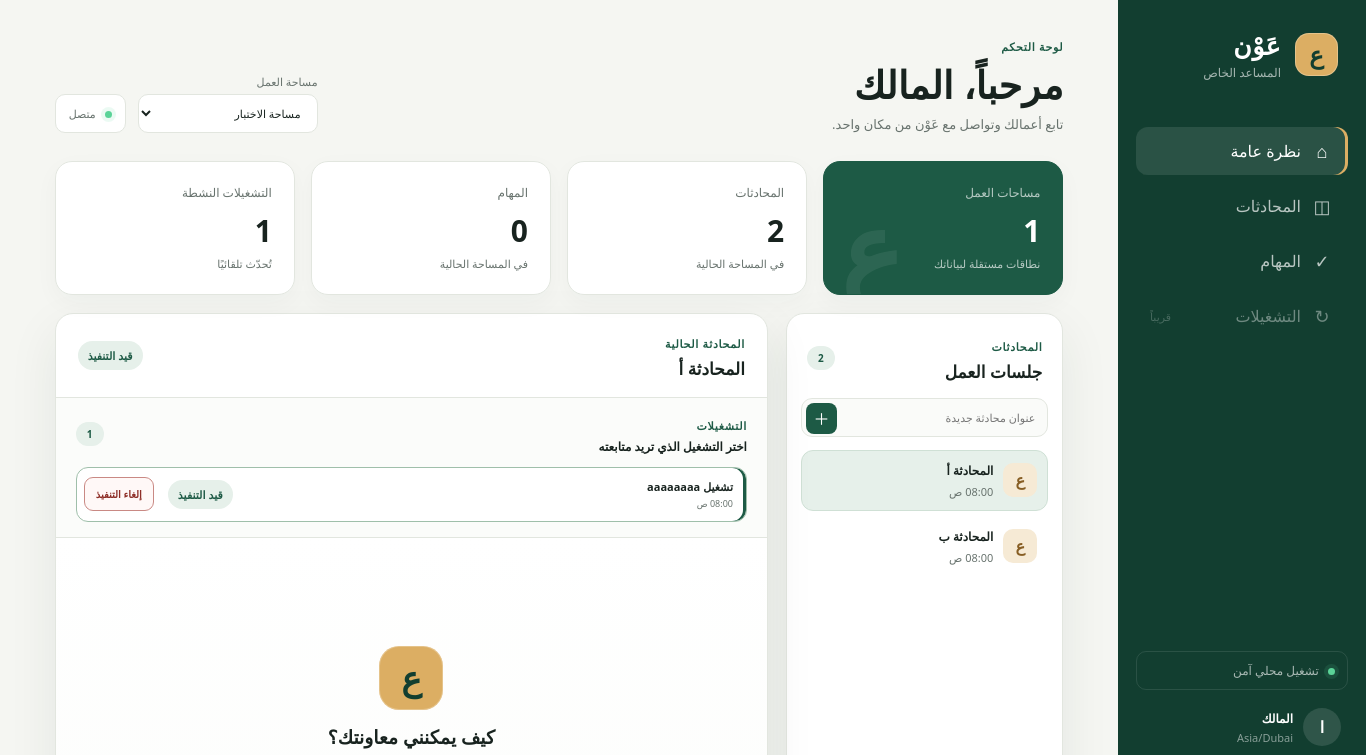
Scenario: FC-002 cancellation dashboard › ignores an old cancellation response after navigating to another conversation
Click the button "إلغاء التنفيذ" at (119, 494), box [84,477,154,511]
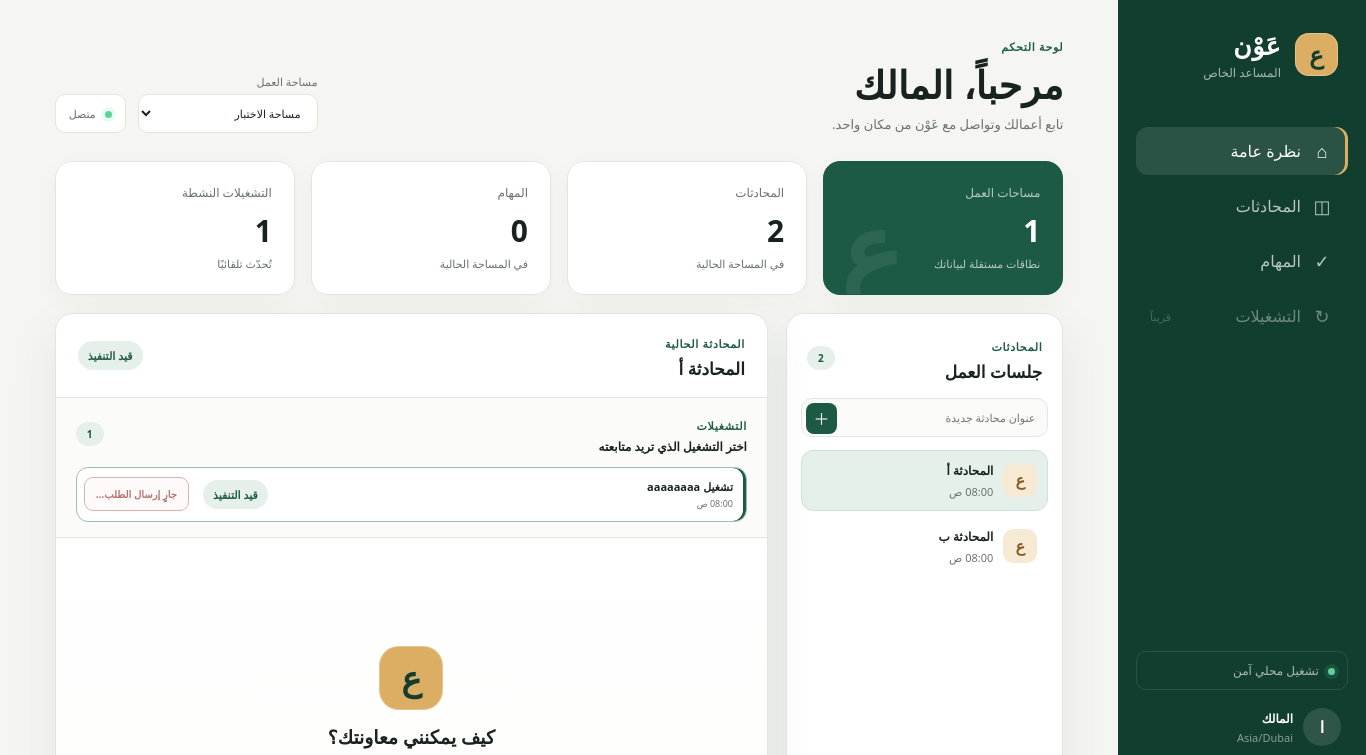
Click the button "ع المحادثة ب 08:00 ص" at (925, 546), box [801,516,1048,576]
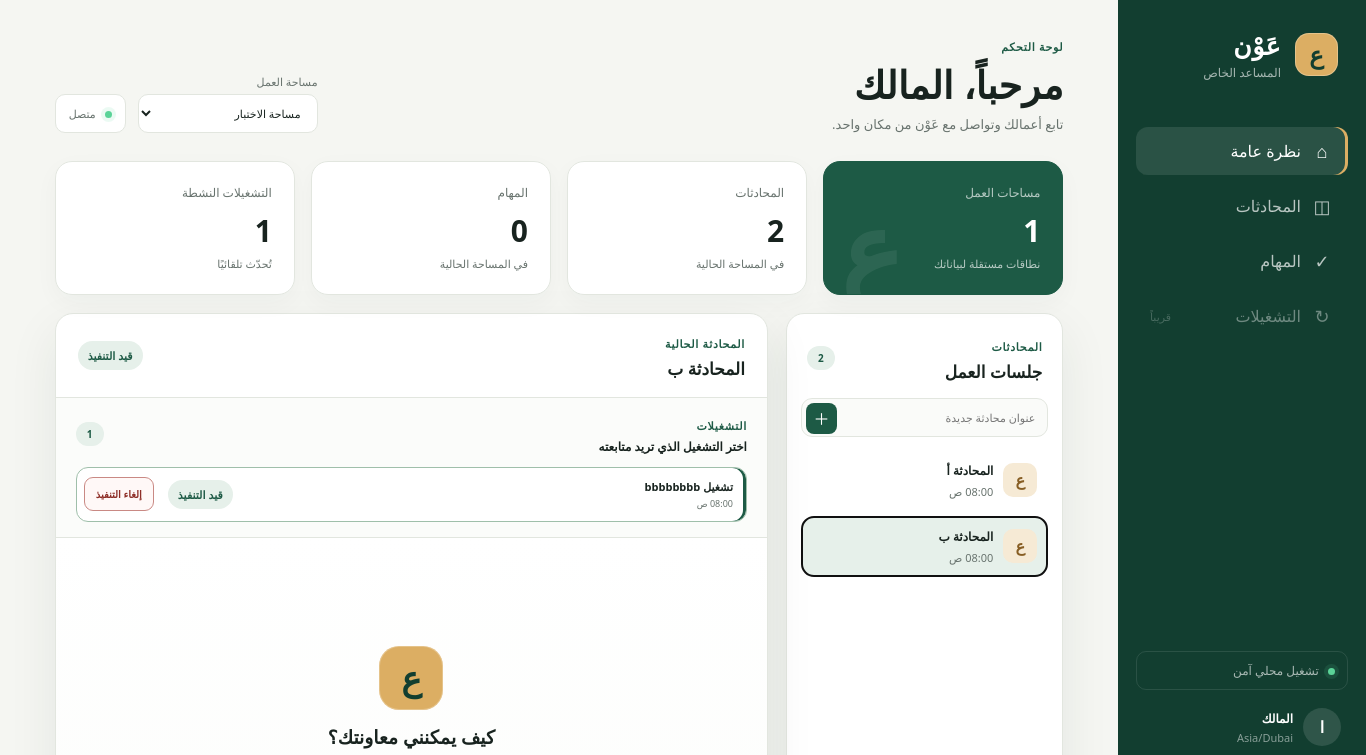
Click the button "ع المحادثة أ 08:00 ص" at (925, 480), box [801,450,1048,510]
(page scrolled)
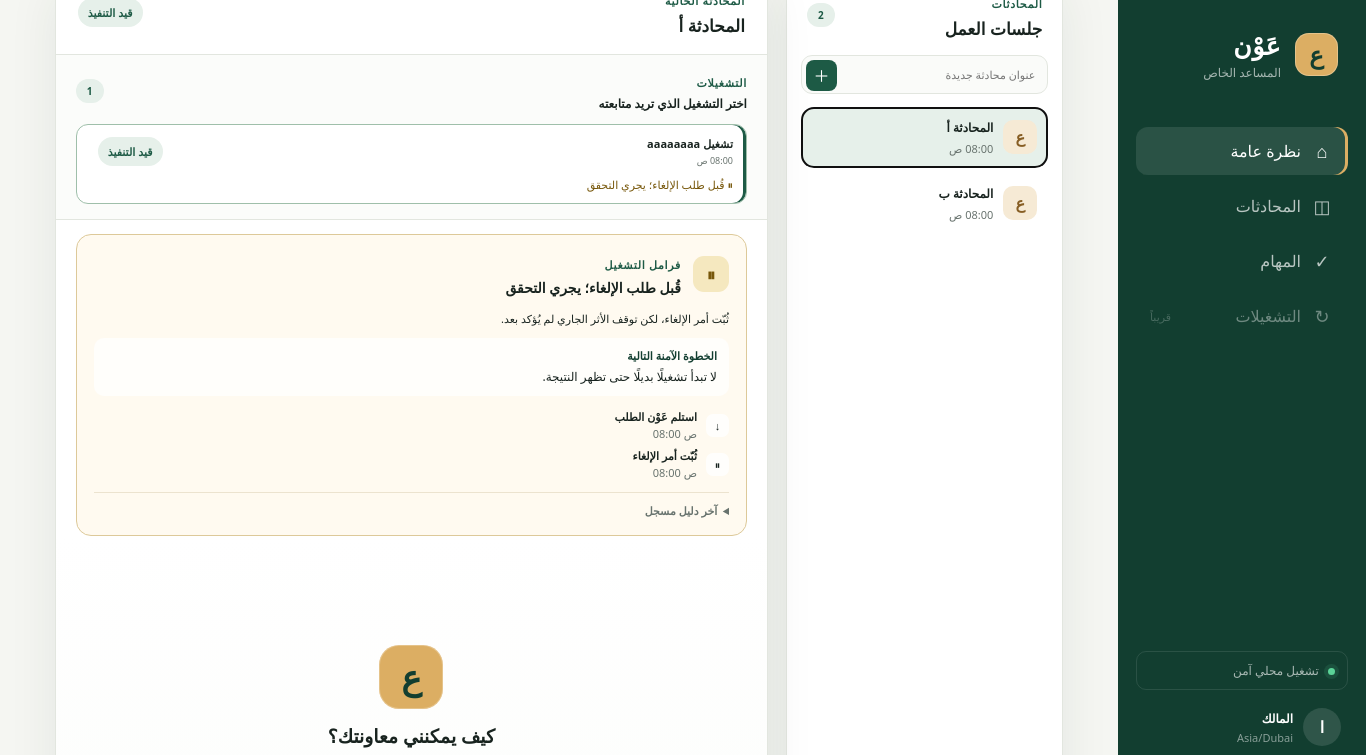
Expected: the message named "حالة إلغاء التشغيل aaaaaaaa" is shown, [76,234,747,536]
